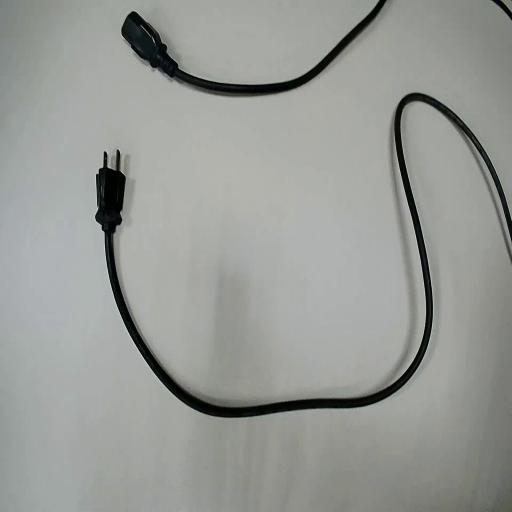wire: (96, 93, 511, 416), (122, 0, 385, 94)
